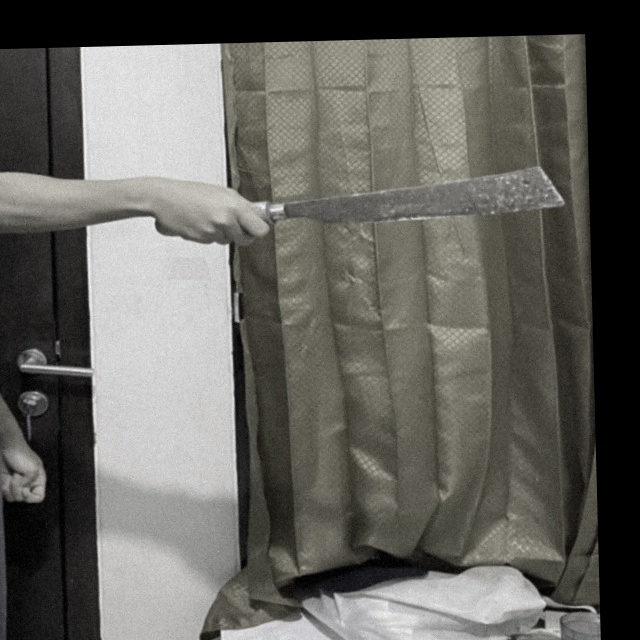Sharp-Object: (247, 163, 569, 227)
